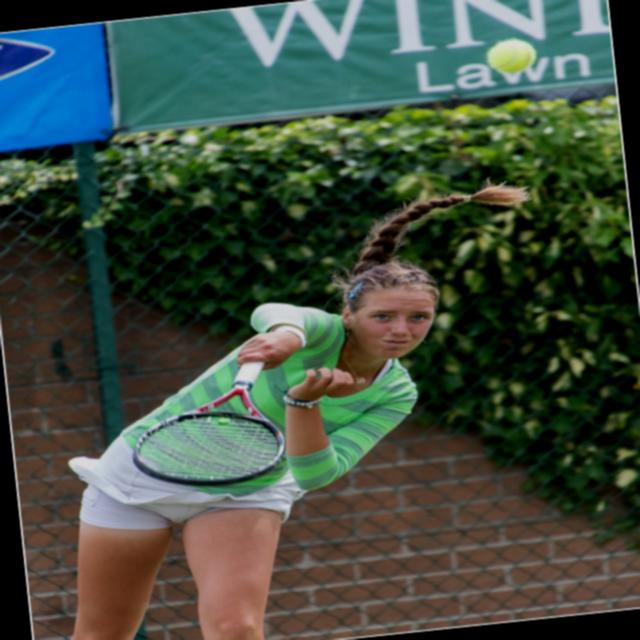Tennis ball: (484, 34, 534, 74)
